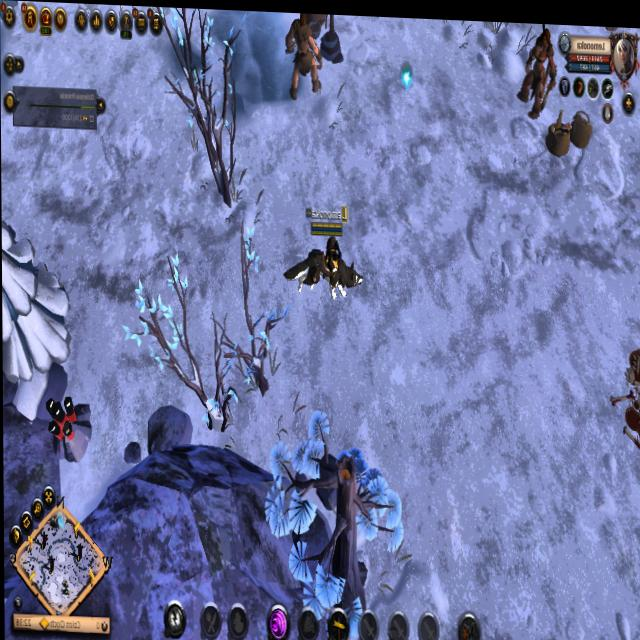ore tier 5: (47, 394, 94, 465)
